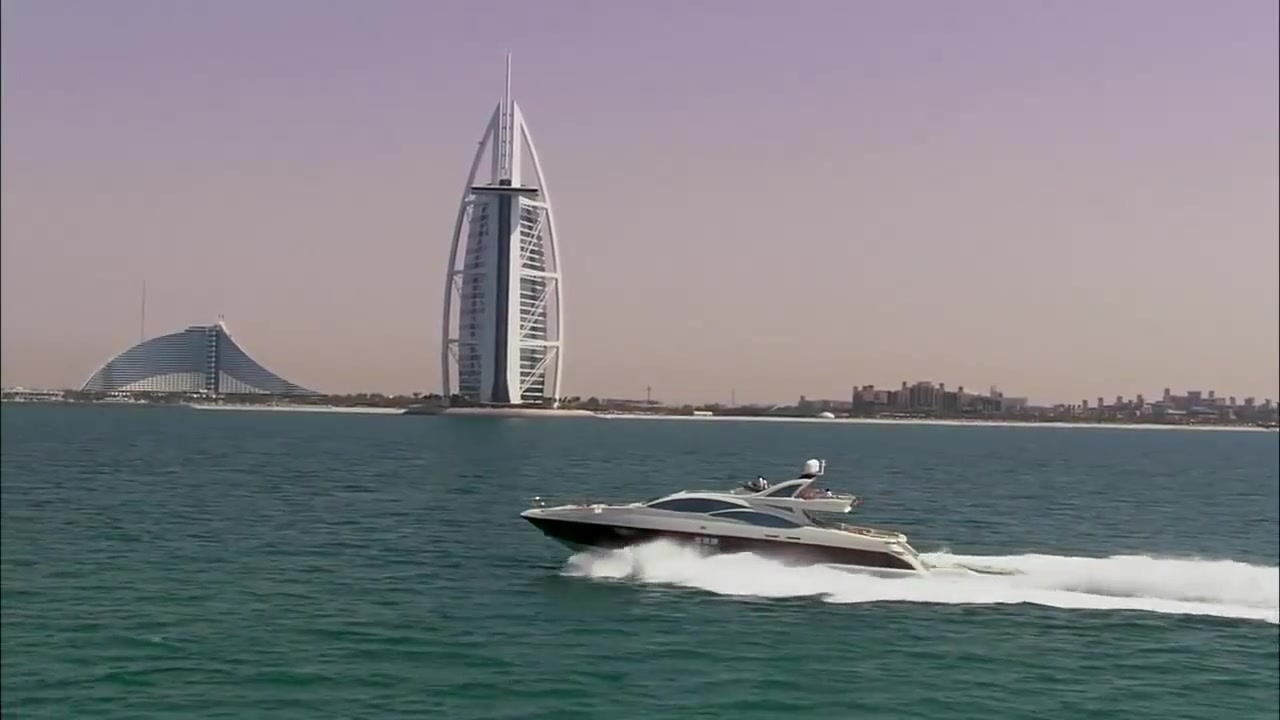boat: (513, 469, 937, 589), (401, 393, 461, 423)
